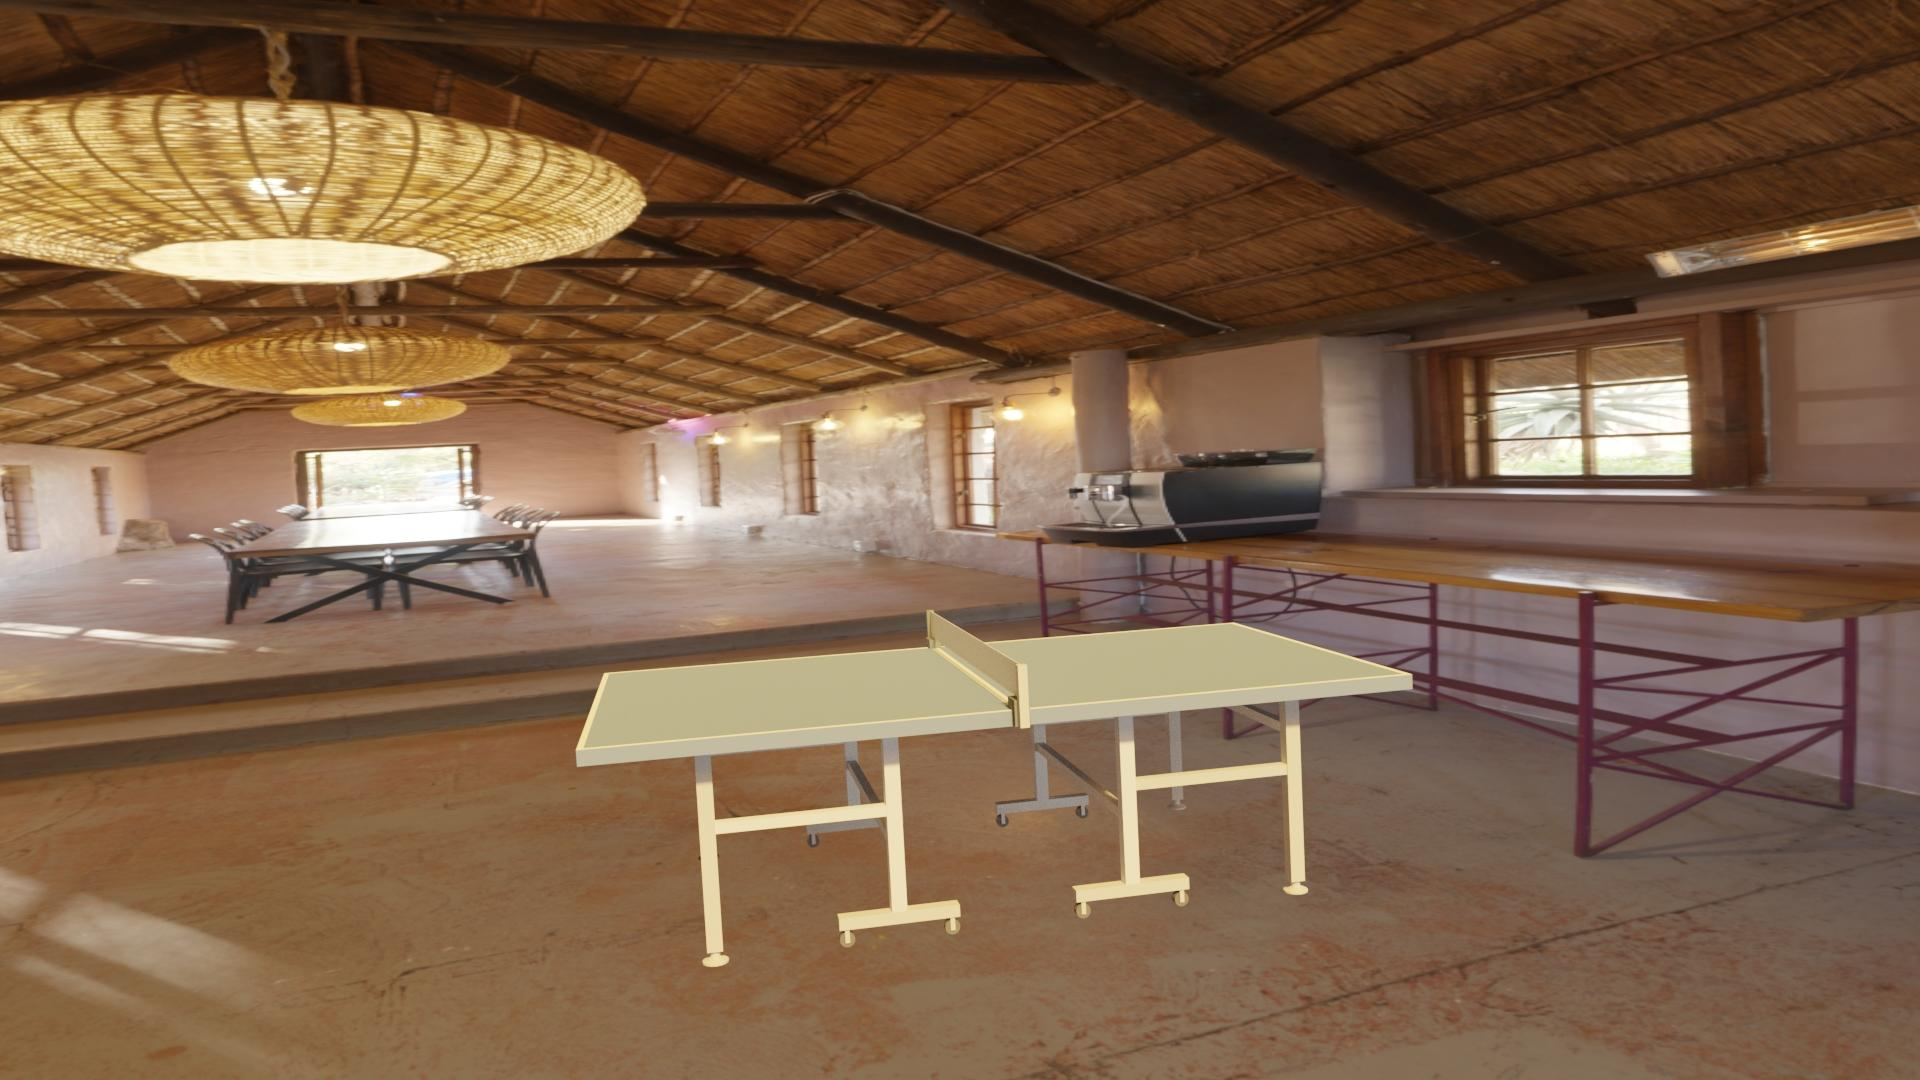table: (583, 624, 1403, 748)
